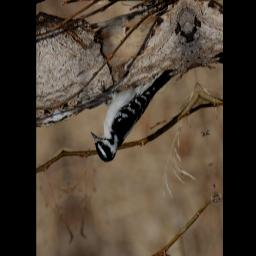Woodpecker: (83, 57, 187, 167)
